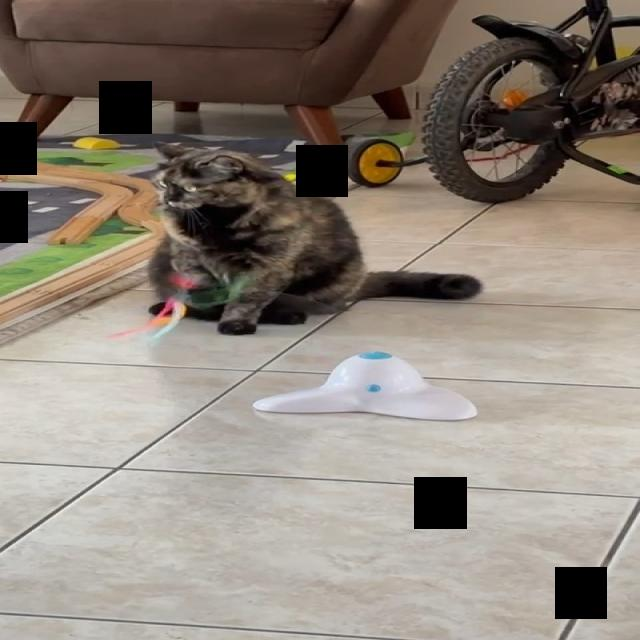authorized: (145, 140, 483, 335)
